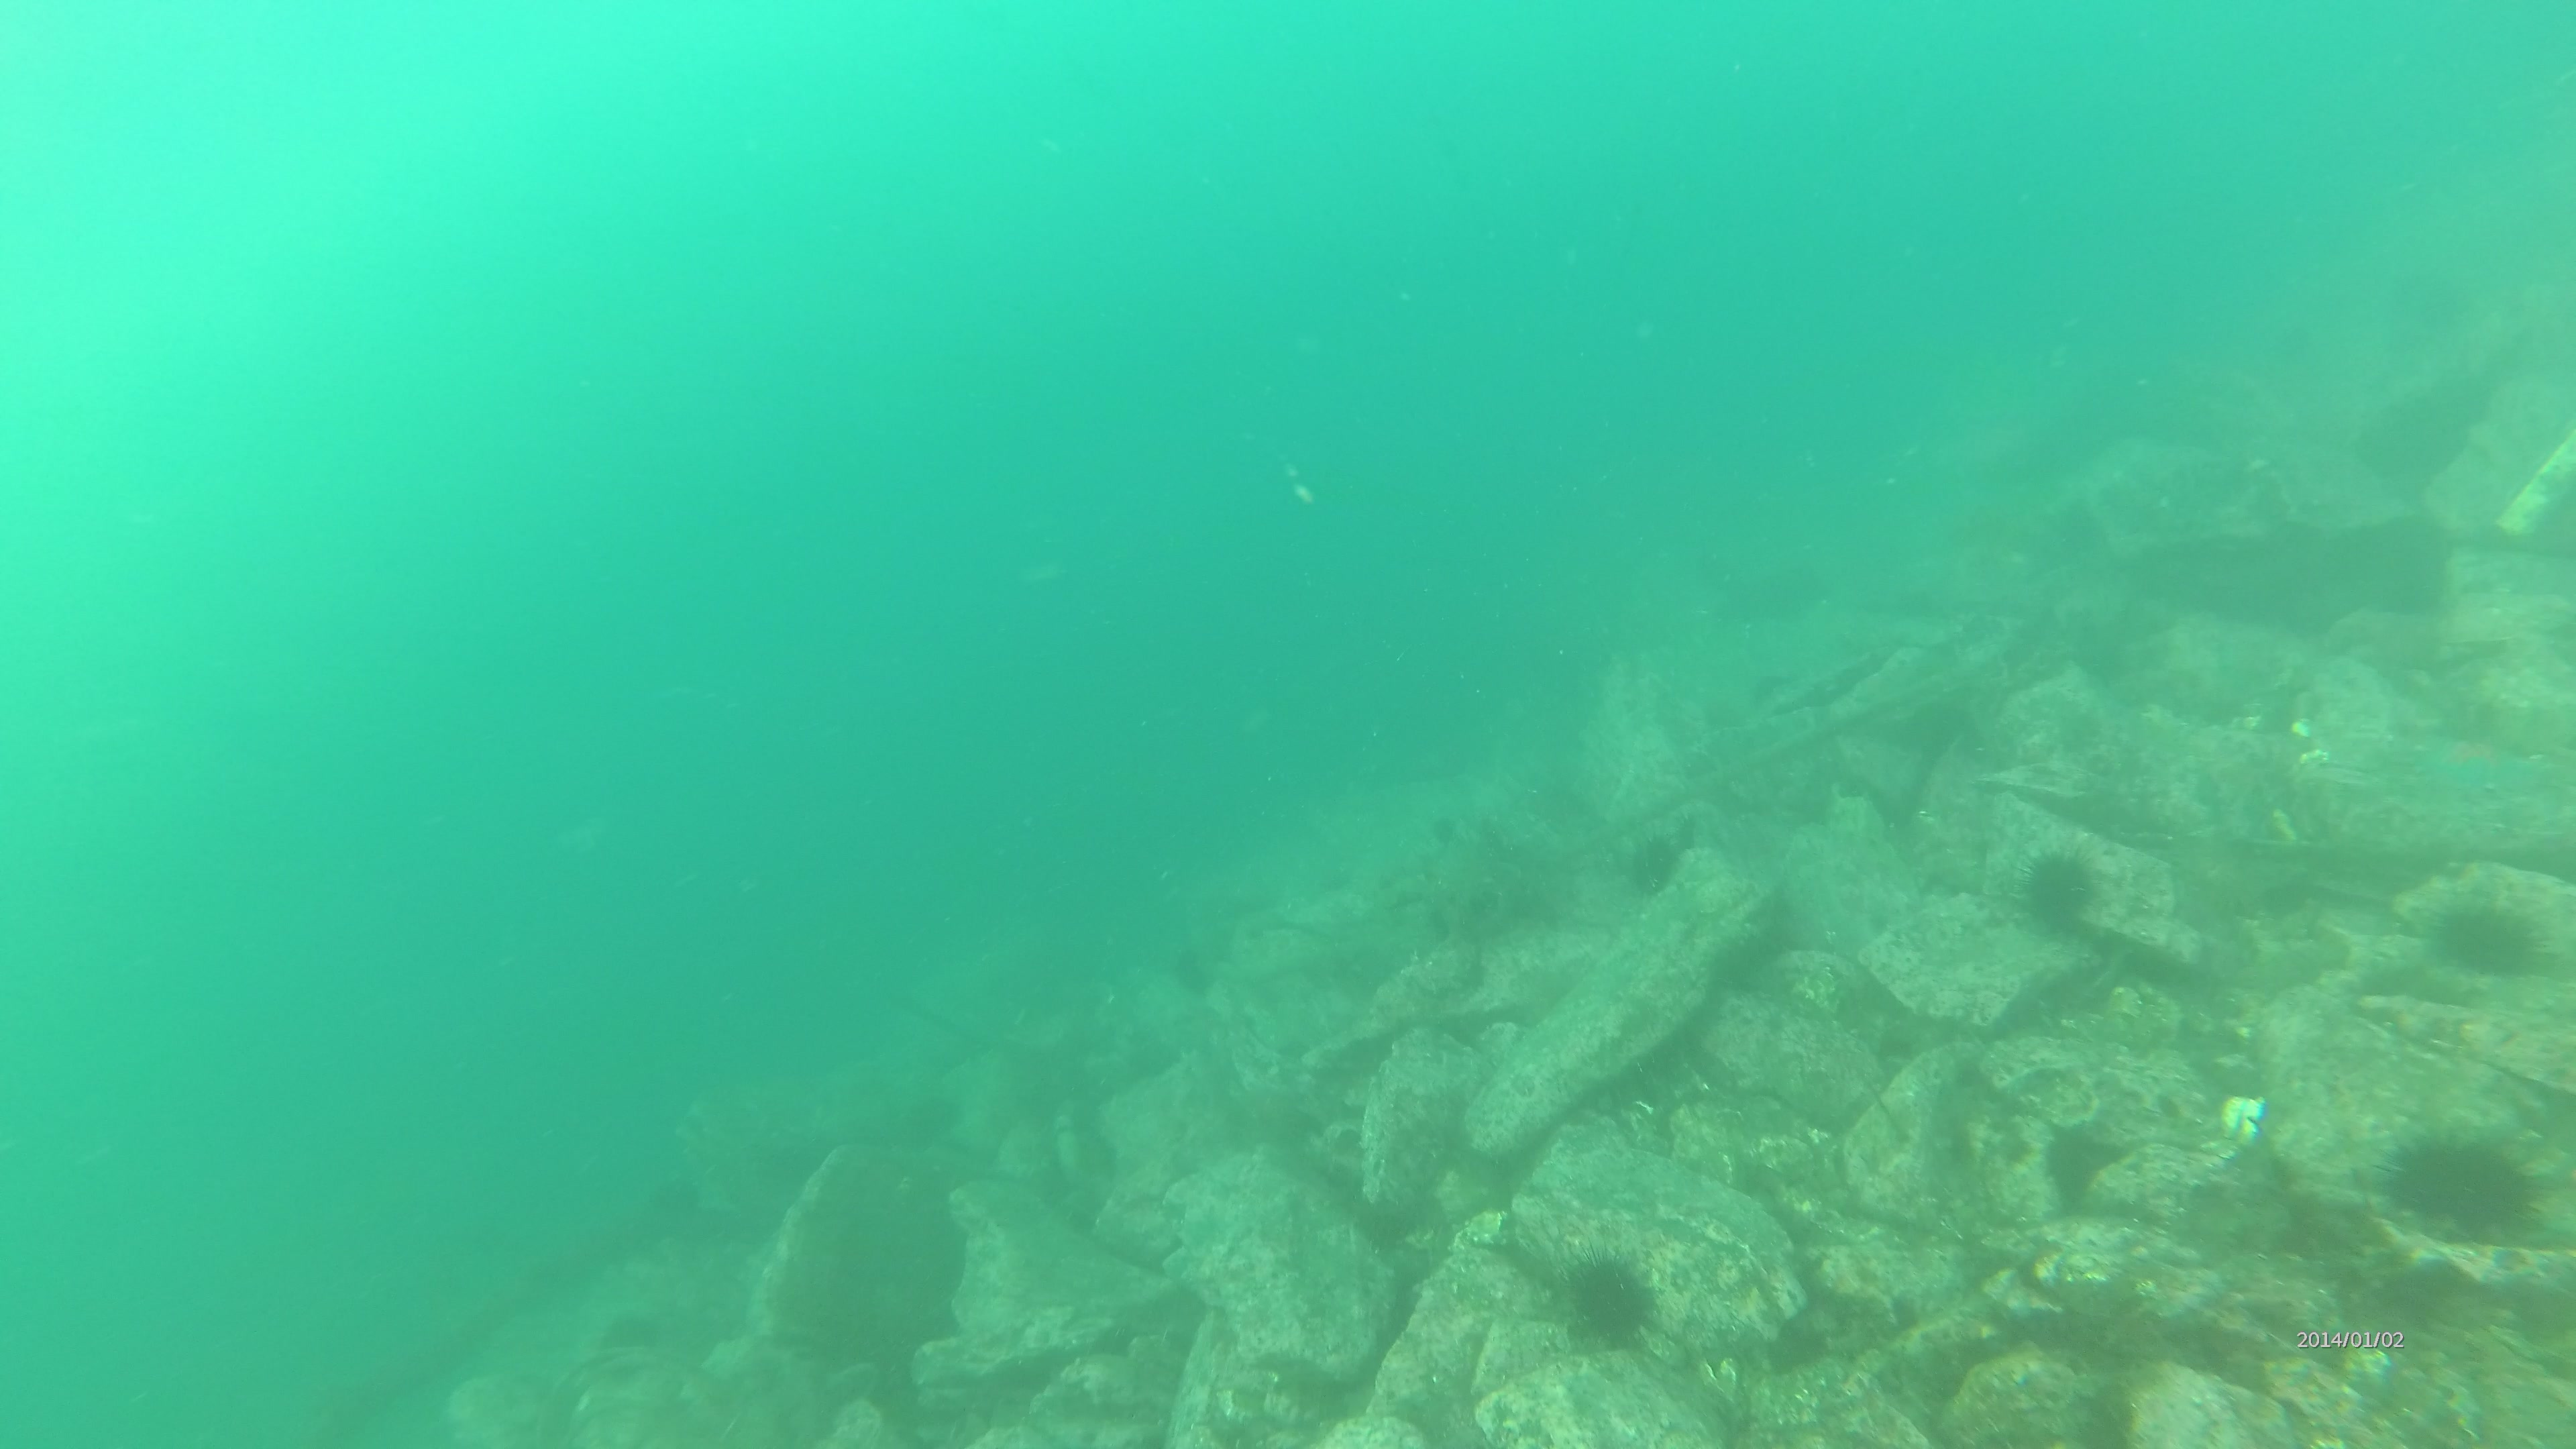echinus: (2394, 1129, 2541, 1249), (1552, 1244, 1663, 1357), (2433, 899, 2546, 982), (2020, 844, 2104, 936)
starfish: (2399, 722, 2542, 809)
